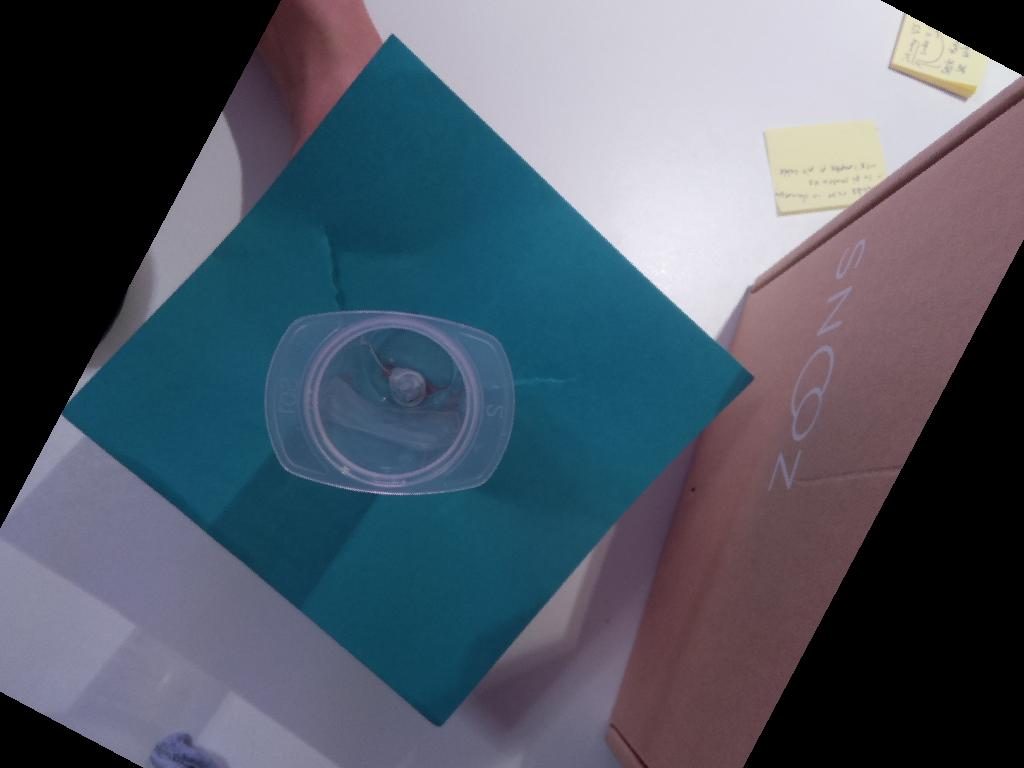clean: (261, 308, 517, 497)
